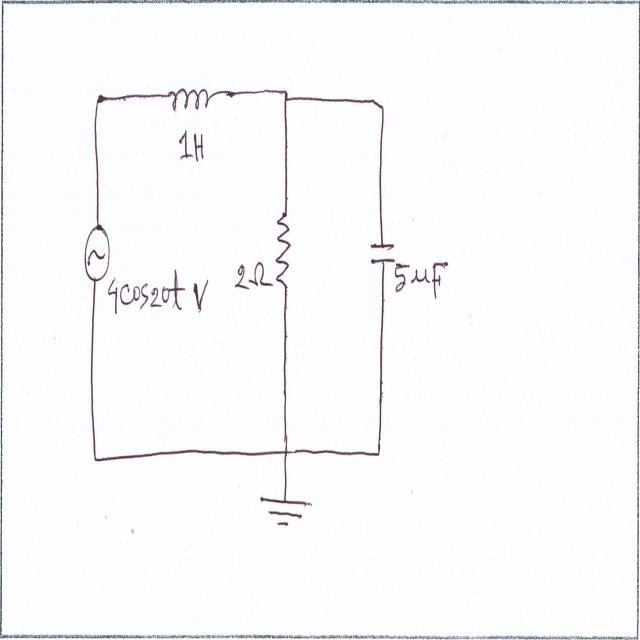ac_current: (78, 223, 112, 284)
capacitor: (366, 238, 397, 266)
ground: (257, 487, 313, 538)
inductor: (165, 86, 218, 114)
resistor: (271, 204, 294, 294)
